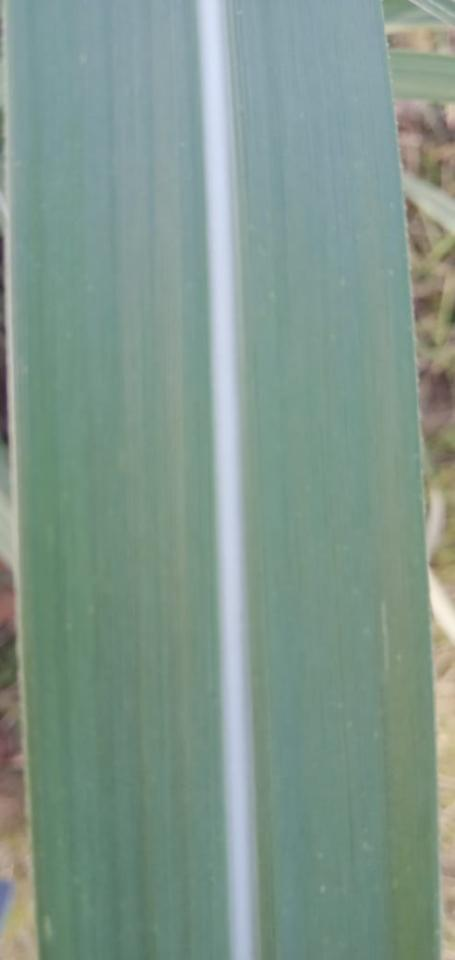Healthy: (6, 0, 438, 959)
